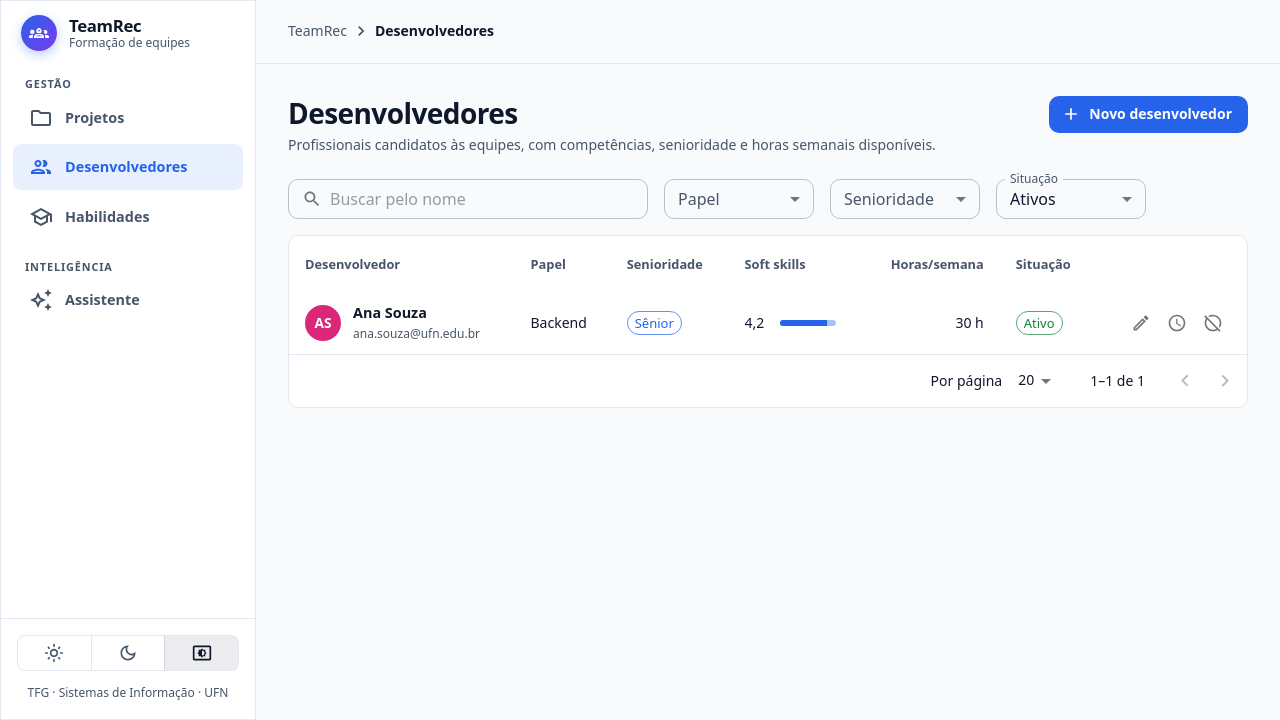
Scenario: pagina de desenvolvedores › ajusta a disponibilidade semanal
The width and height of the screenshot is (1280, 720).
Click the button named "Ajustar horas de Ana Souza" at (1177, 323), box left=1159, top=305, right=1195, bottom=341
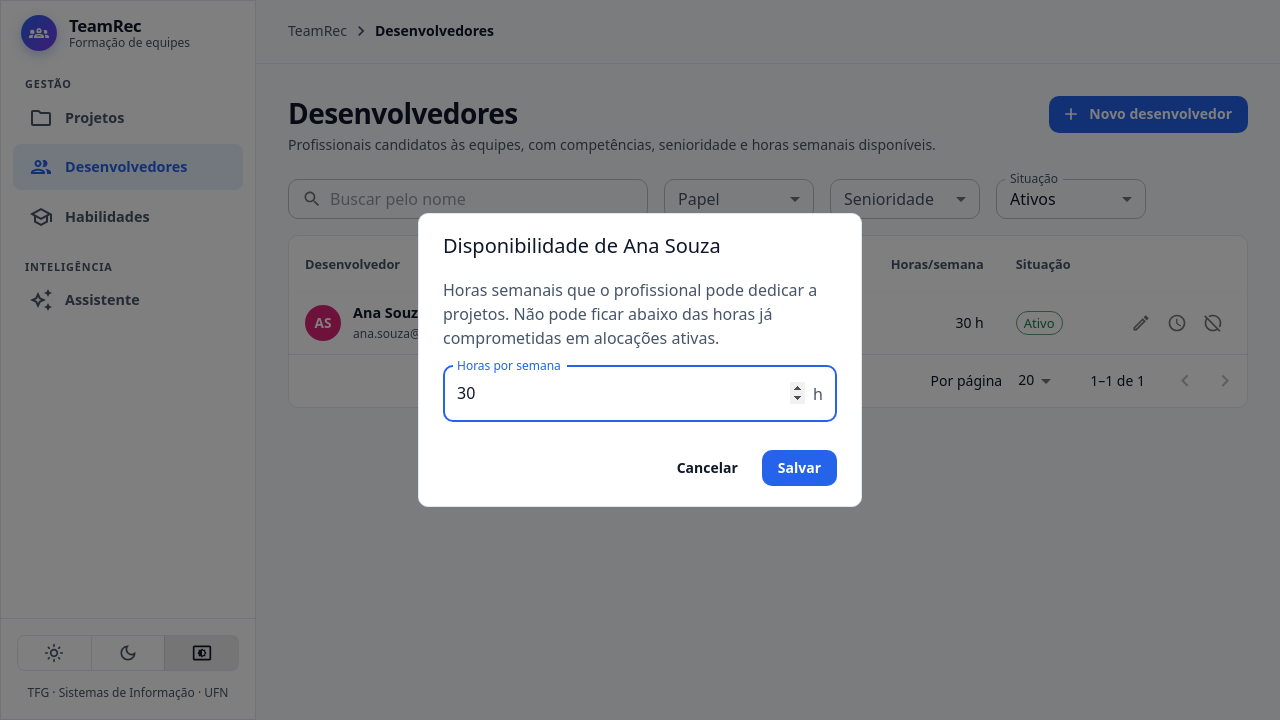
Replace the text in the number field labelled "Horas por semana" with "24" at (624, 394), box left=443, top=366, right=805, bottom=422
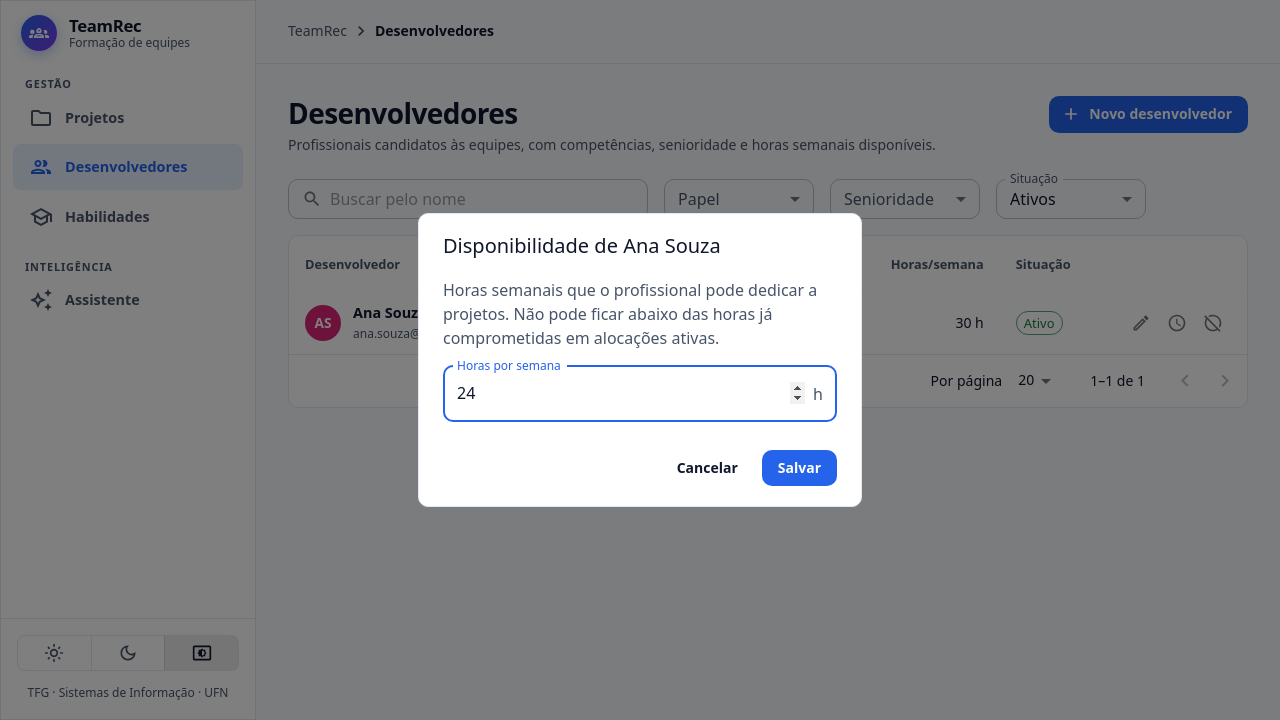
Click the button "Salvar" at (799, 468), box left=762, top=450, right=837, bottom=486
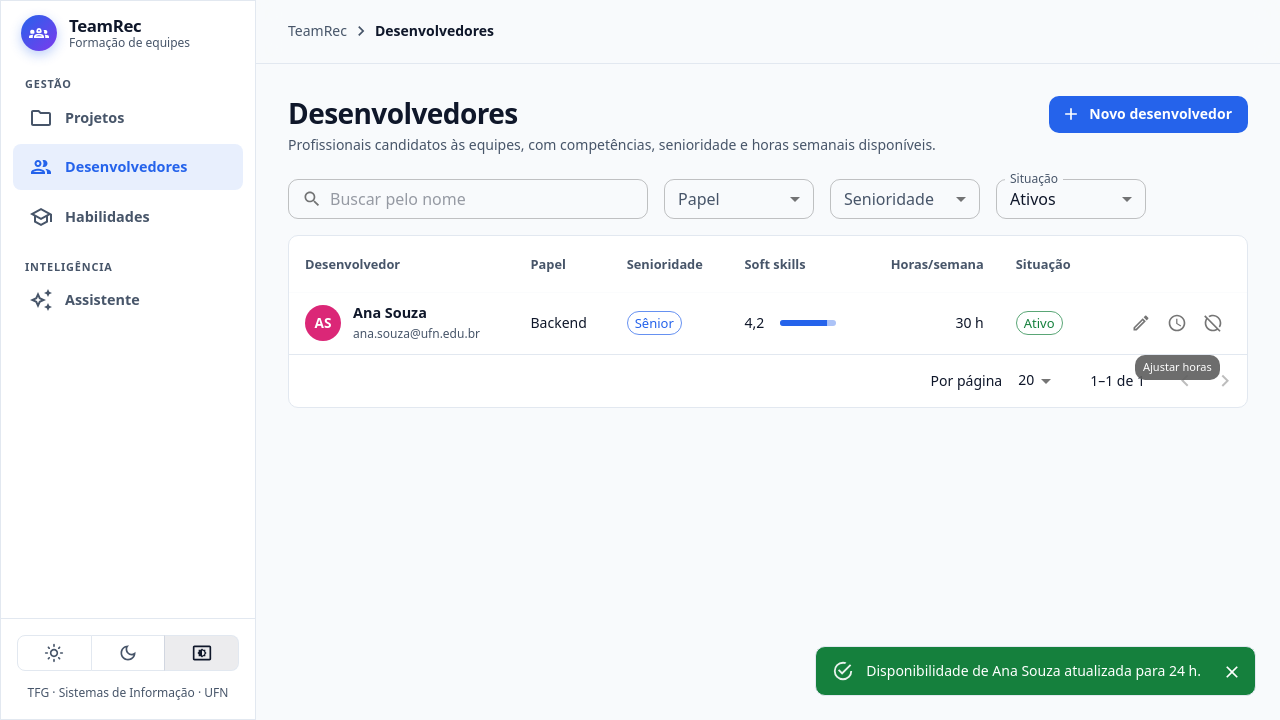
Expected: the text "Disponibilidade de Ana Souza atualizada para 24 h." is shown, left=866, top=661, right=1201, bottom=680
